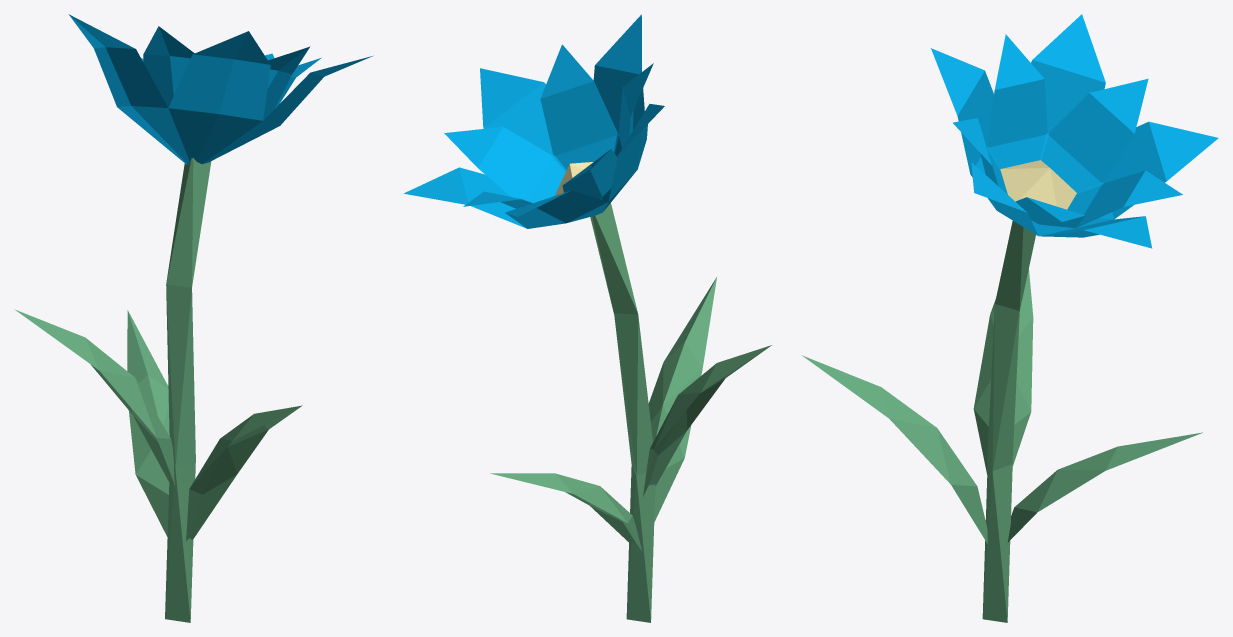
Rendered from Hilly_Prop_Flower_Lily_Blue.glb.
The picture shows the model from 3 angles, left to right: view 1: azimuth 30°, elevation 25°; view 2: azimuth 150°, elevation 25°; view 3: azimuth 270°, elevation 25°; orthographic projection. The views are drawn at different scales.
Visible parts, largest first — view 1: Hilly_Prop_Flower_Lily_Blue; view 2: Hilly_Prop_Flower_Lily_Blue; view 3: Hilly_Prop_Flower_Lily_Blue.
Part boxes in pixels (box(x1,y1,x2,y2)): Hilly_Prop_Flower_Lily_Blue: box(14, 14, 372, 622); Hilly_Prop_Flower_Lily_Blue: box(404, 14, 771, 622); Hilly_Prop_Flower_Lily_Blue: box(801, 14, 1218, 622).
Bounding box in the file's own units: 0.3218 × 0.5545 × 0.3582.
